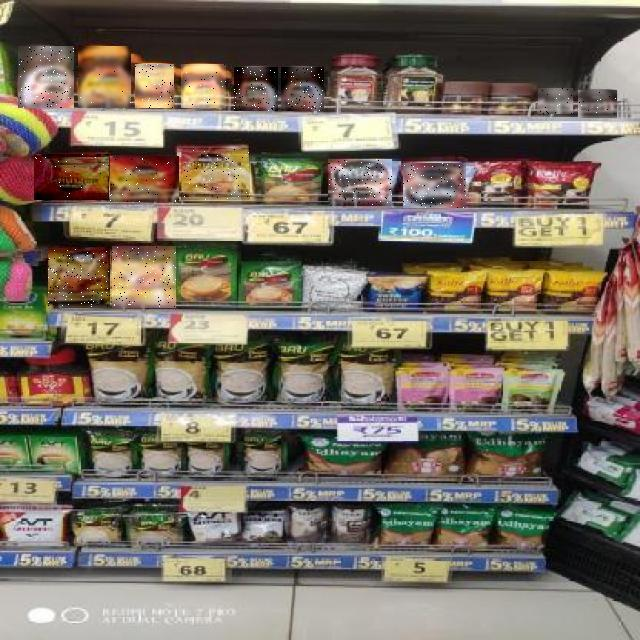Coffee: (112, 246, 176, 308), (48, 248, 110, 308), (181, 148, 250, 200), (18, 46, 74, 108), (34, 154, 109, 200), (78, 46, 131, 108), (110, 156, 179, 202), (328, 160, 392, 206), (404, 163, 468, 208), (182, 64, 228, 108), (234, 67, 278, 111), (281, 67, 324, 111), (135, 64, 174, 108), (578, 90, 617, 118), (538, 89, 573, 115)
